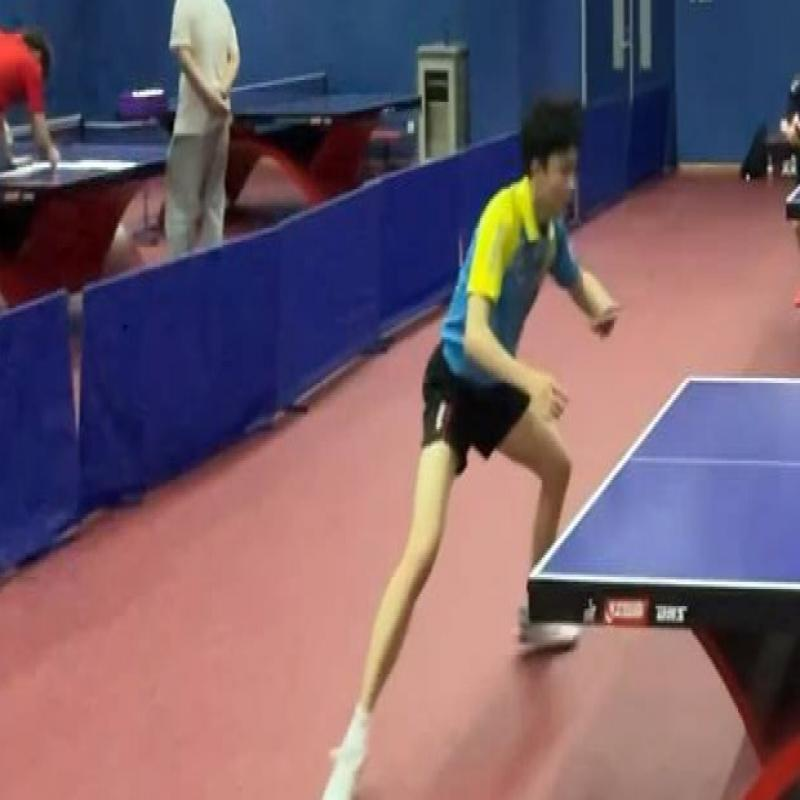bats: (590, 293, 627, 349)
